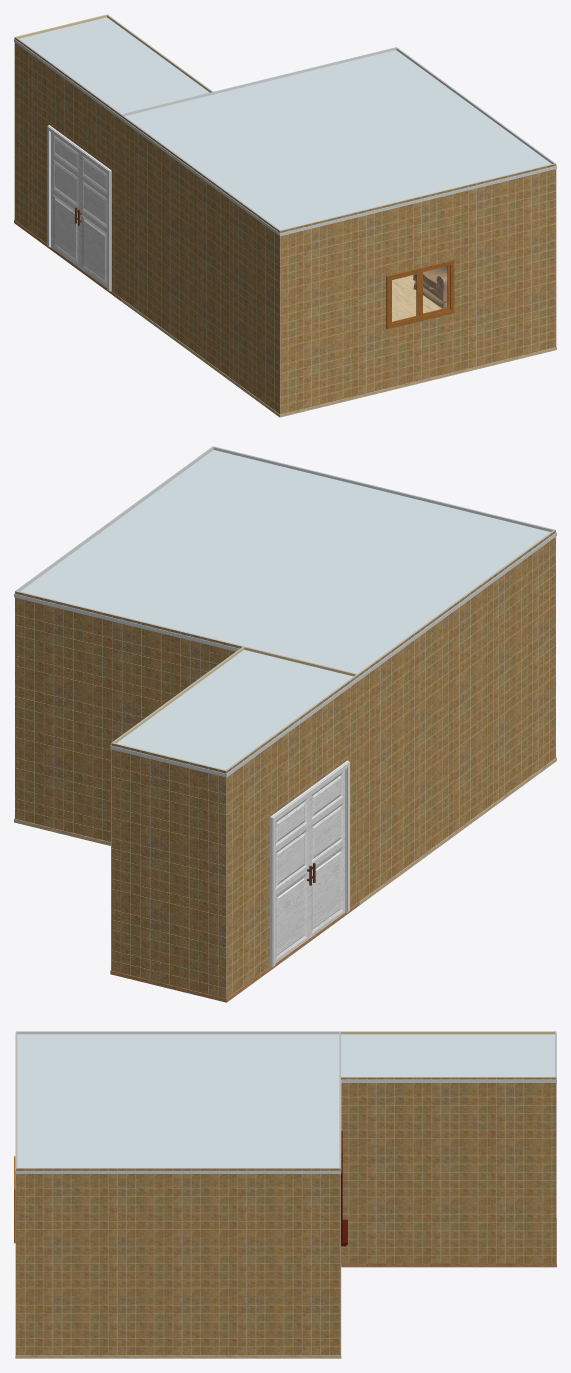
File: ProcTHOR-Train-141.glb
3 views of the same model, one above another, from view 1: azimuth 30°, elevation 25°; view 2: azimuth 150°, elevation 25°; view 3: azimuth 270°, elevation 25° (orthographic). The views are drawn at different scales.
Parts seen in each view (by area): view 1: WallInside#wall|exterior|0.00|8.34|5.00|8.34, Ceiling#room|3|c, WallInside#wall|exterior|5.00|3.34|5.00|8.34, WallInside#wall|exterior|5.00|0.00|5.00|3.34, Ceiling#room|2|c, Doorway_Door_8b, Doorway_Door_8a, Floor#room|3|f, Window_Slider_48x36, Doorway_Double_8, RoboTHOR_armchair_ektorp, WallInside#wall|3|0.00|3.34|3.34|3.34 (+1 smaller); view 2: Ceiling#room|3|c, WallInside#wall|exterior|5.00|3.34|5.00|8.34, WallInside#wall|exterior|0.00|3.34|3.34|3.34, WallInside#wall|exterior|3.34|0.00|5.00|0.00, WallInside#wall|exterior|5.00|0.00|5.00|3.34, Ceiling#room|2|c, Doorway_Door_8a, Doorway_Door_8b, Doorway_Double_8, Floor#room|3|f, WallInside#wall|3|0.00|8.34|5.00|8.34, Floor#room|2|f (+1 smaller); view 3: WallInside#wall|exterior|0.00|3.34|0.00|8.34, Ceiling#room|3|c, WallInside#wall|exterior|3.34|0.00|3.34|3.34, Ceiling#room|2|c, Floor#room|3|f, WallInside#wall|3|5.00|3.34|5.00|8.34, Floor#room|2|f, WallInside#wall|2|5.00|0.00|5.00|3.34, WallInside#wall|exterior|0.00|8.34|5.00|8.34.
Part boxes in pixels (x1=…): WallInside#wall|exterior|0.00|8.34|5.00|8.34: x1=280, y1=164, x2=556, y2=414; Ceiling#room|3|c: x1=121, y1=50, x2=556, y2=236; WallInside#wall|exterior|5.00|3.34|5.00|8.34: x1=121, y1=115, x2=279, y2=413; WallInside#wall|exterior|5.00|0.00|5.00|3.34: x1=14, y1=37, x2=121, y2=297; Ceiling#room|2|c: x1=14, y1=17, x2=209, y2=119; Doorway_Door_8b: x1=51, y1=132, x2=79, y2=268; Doorway_Door_8a: x1=80, y1=153, x2=107, y2=288; Floor#room|3|f: x1=120, y1=275, x2=556, y2=417; Window_Slider_48x36: x1=386, y1=259, x2=454, y2=329; Doorway_Double_8: x1=47, y1=125, x2=111, y2=291; RoboTHOR_armchair_ektorp: x1=413, y1=266, x2=447, y2=308; WallInside#wall|3|0.00|3.34|3.34|3.34: x1=213, y1=47, x2=396, y2=94; Ceiling#room|3|c: x1=14, y1=450, x2=556, y2=679; WallInside#wall|exterior|5.00|3.34|5.00|8.34: x1=358, y1=530, x2=555, y2=902; WallInside#wall|exterior|0.00|3.34|3.34|3.34: x1=15, y1=591, x2=242, y2=842; WallInside#wall|exterior|3.34|0.00|5.00|0.00: x1=111, y1=743, x2=226, y2=998; WallInside#wall|exterior|5.00|0.00|5.00|3.34: x1=226, y1=674, x2=357, y2=998; Ceiling#room|2|c: x1=110, y1=650, x2=359, y2=777; Doorway_Door_8a: x1=309, y1=769, x2=345, y2=938; Doorway_Door_8b: x1=275, y1=796, x2=309, y2=963; Doorway_Double_8: x1=269, y1=760, x2=349, y2=967; Floor#room|3|f: x1=14, y1=757, x2=556, y2=904; WallInside#wall|3|0.00|8.34|5.00|8.34: x1=212, y1=446, x2=554, y2=531; Floor#room|2|f: x1=110, y1=901, x2=359, y2=1002; WallInside#wall|exterior|0.00|3.34|0.00|8.34: x1=16, y1=1168, x2=340, y2=1355; Ceiling#room|3|c: x1=15, y1=1033, x2=341, y2=1173; WallInside#wall|exterior|3.34|0.00|3.34|3.34: x1=339, y1=1077, x2=556, y2=1264; Ceiling#room|2|c: x1=338, y1=1033, x2=556, y2=1082; Floor#room|3|f: x1=15, y1=1243, x2=341, y2=1358; WallInside#wall|3|5.00|3.34|5.00|8.34: x1=16, y1=1031, x2=339, y2=1034; Floor#room|2|f: x1=341, y1=1218, x2=556, y2=1267; WallInside#wall|2|5.00|0.00|5.00|3.34: x1=341, y1=1031, x2=555, y2=1034; WallInside#wall|exterior|0.00|8.34|5.00|8.34: x1=15, y1=1032, x2=16, y2=1354.
Size of what is drawn, in the model's own units: 5.11 by 3.24 by 8.4.
Materials: 145 (60 with a texture image).
